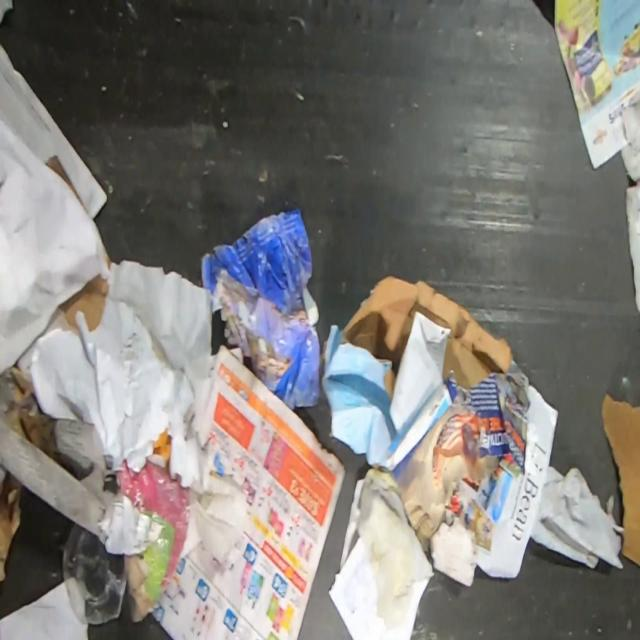cardboard: (321, 276, 533, 550), (0, 368, 162, 554), (200, 208, 321, 410), (602, 392, 640, 566), (58, 275, 108, 332), (0, 464, 22, 583), (44, 154, 83, 204), (103, 246, 115, 273)
soft_plastic: (62, 525, 127, 623)
